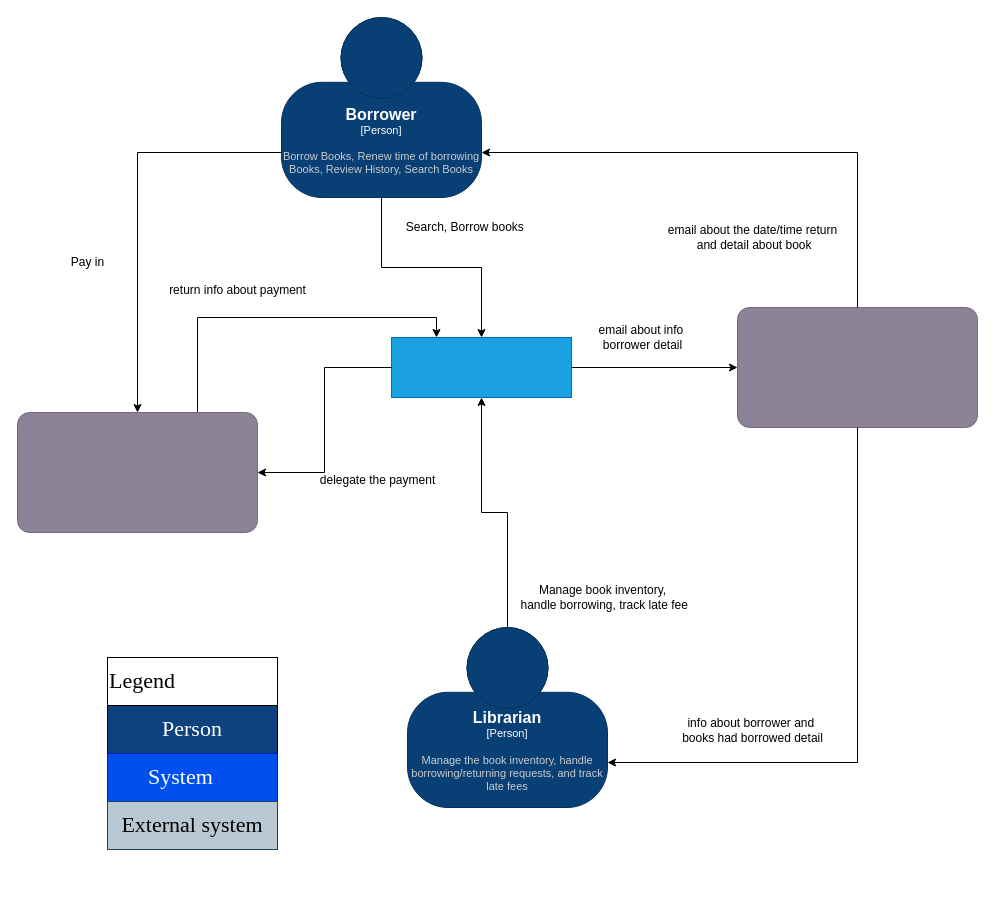
Some shapes in this 995 by 915 pixel diagram are drawn without their labels. The shapes that lost their labels are listed below. From the top down, each one's centre as x and y in pixels, then its label:
At point (481, 367): "Book Management System".
At point (857, 367): "Email Service [External System]".
At point (137, 472): "Payment gateway [External System]".
